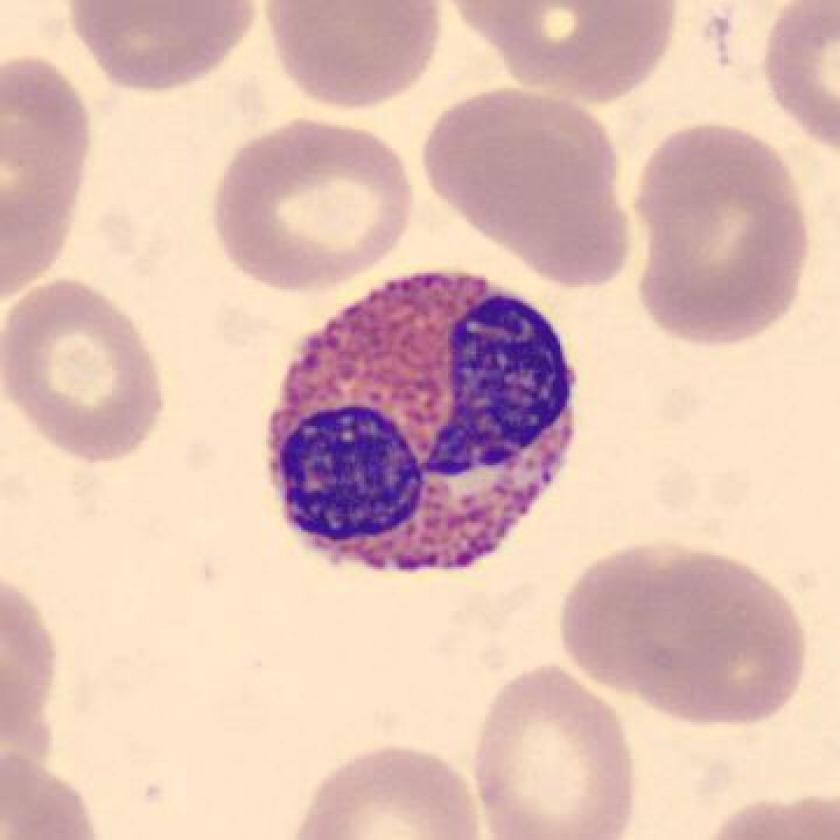eosinophil: (253, 256, 594, 598)
